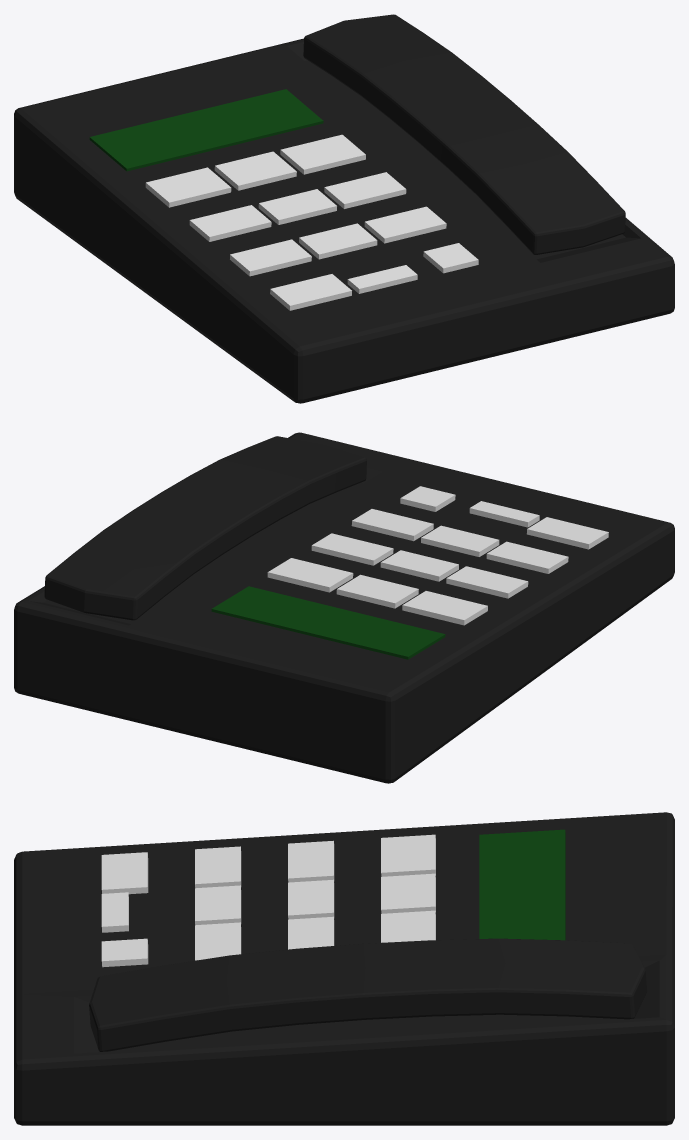
File: Telephone.fbx
The picture shows the model from 3 angles, top to bottom: view 1: azimuth 30°, elevation 25°; view 2: azimuth 150°, elevation 25°; view 3: azimuth 270°, elevation 25°; orthographic projection. The views are drawn at different scales.
Visible parts, largest first — view 1: Prop_Telephone; view 2: Prop_Telephone; view 3: Prop_Telephone.
Boxes of the visible parts, x1,y1,x2,y2 form: Prop_Telephone: (14,14,674,403); Prop_Telephone: (14,432,674,783); Prop_Telephone: (14,812,674,1125).
Size of the model in its own units: 25.05 by 32.6 by 7.14.
